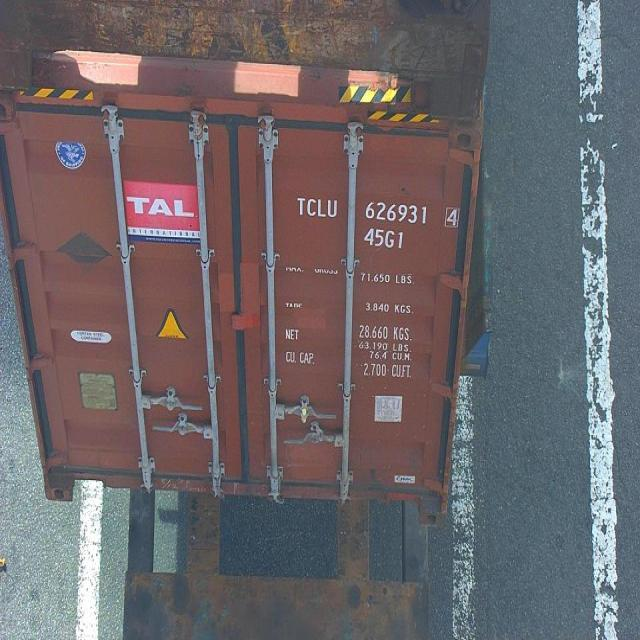ISO: (362, 228, 404, 248)
container_number: (298, 199, 454, 225)
